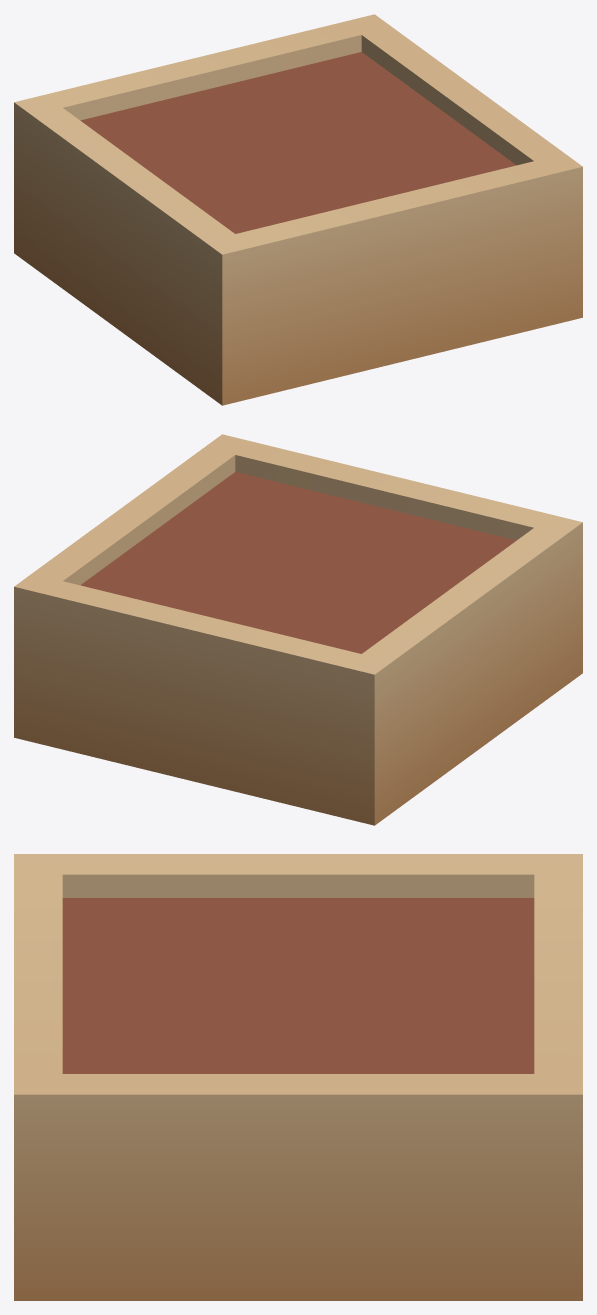
Rendered from SmallHouse03.fbx.
3 views of the same model, one above another, from view 1: azimuth 30°, elevation 25°; view 2: azimuth 150°, elevation 25°; view 3: azimuth 270°, elevation 25° (orthographic). The views are drawn at different scales.
Visible parts, largest first — view 1: SmallHouse03; view 2: SmallHouse03; view 3: SmallHouse03.
Boxes of the visible parts, box(x1,y1,x2,y2) form: SmallHouse03: box(14, 14, 582, 405); SmallHouse03: box(14, 434, 582, 825); SmallHouse03: box(14, 854, 582, 1300).
Bounding box in the file's own units: 2.5 × 1 × 2.5.
1 material, 1 textured.
